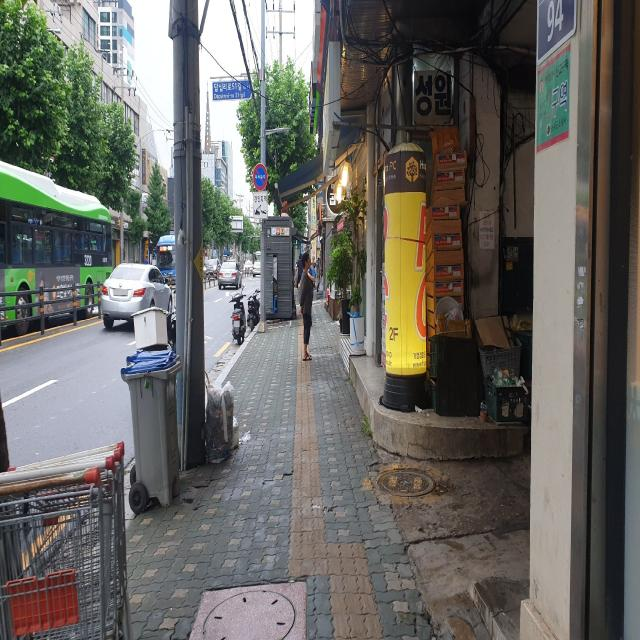motorbike: (229, 293, 247, 346), (247, 293, 260, 331)
